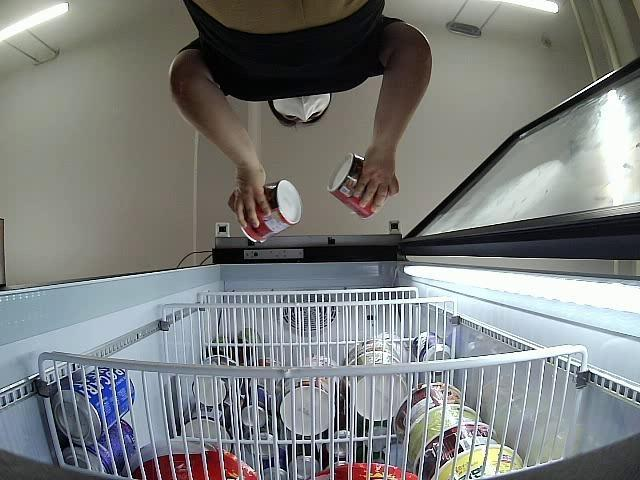01_ShinRamen_L: (237, 180, 302, 243), (327, 152, 388, 218)
